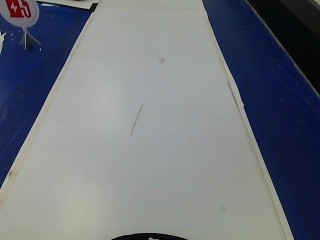battery: (0, 0, 36, 22)
